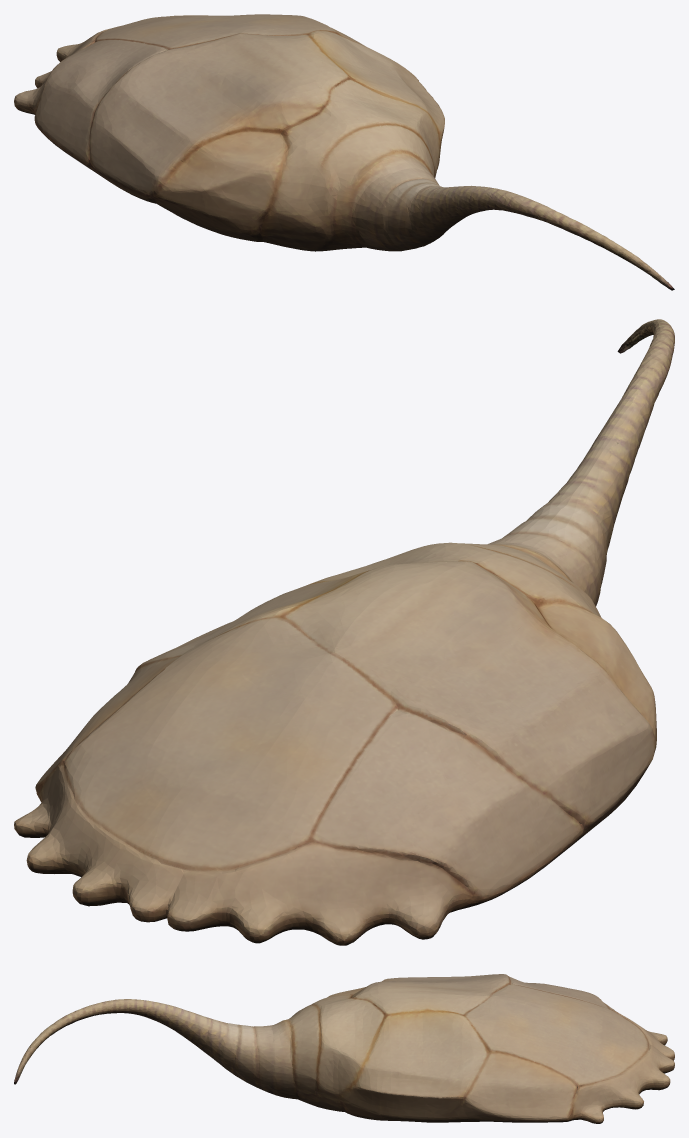
3 renders of one model, top to bottom at view 1: azimuth 30°, elevation 25°; view 2: azimuth 150°, elevation 25°; view 3: azimuth 270°, elevation 25°, orthographic. The views are drawn at different scales.
Parts seen in each view (by area): view 1: world; view 2: world; view 3: world.
Boxes of the visible parts, x1,y1,x2,y2 form: world: (14,14,674,290); world: (14,319,674,945); world: (14,974,674,1123).
Bounding box in the file's own units: 0.4153 × 0.1743 × 0.9969.
Materials: 1 (1 with a texture image).
